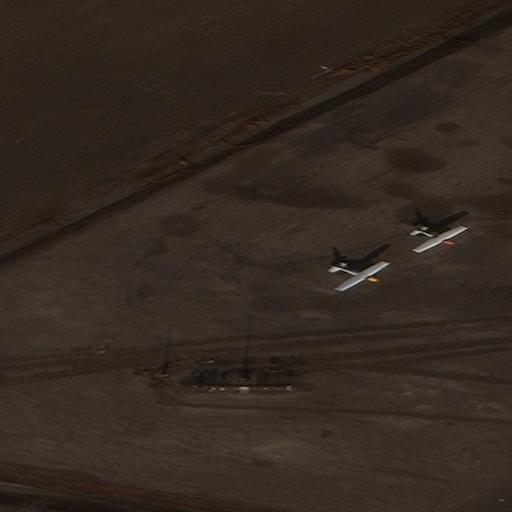Small Civil Transport: (326, 262, 392, 291), (416, 227, 467, 252)
